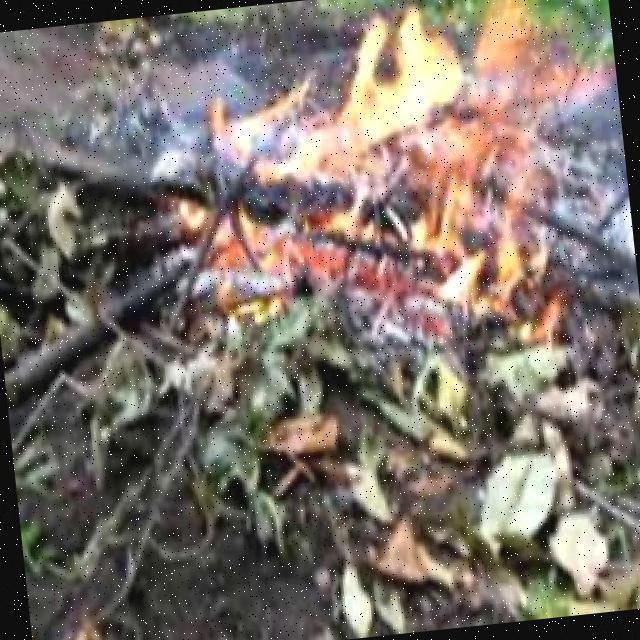Fire: (152, 0, 591, 300)
